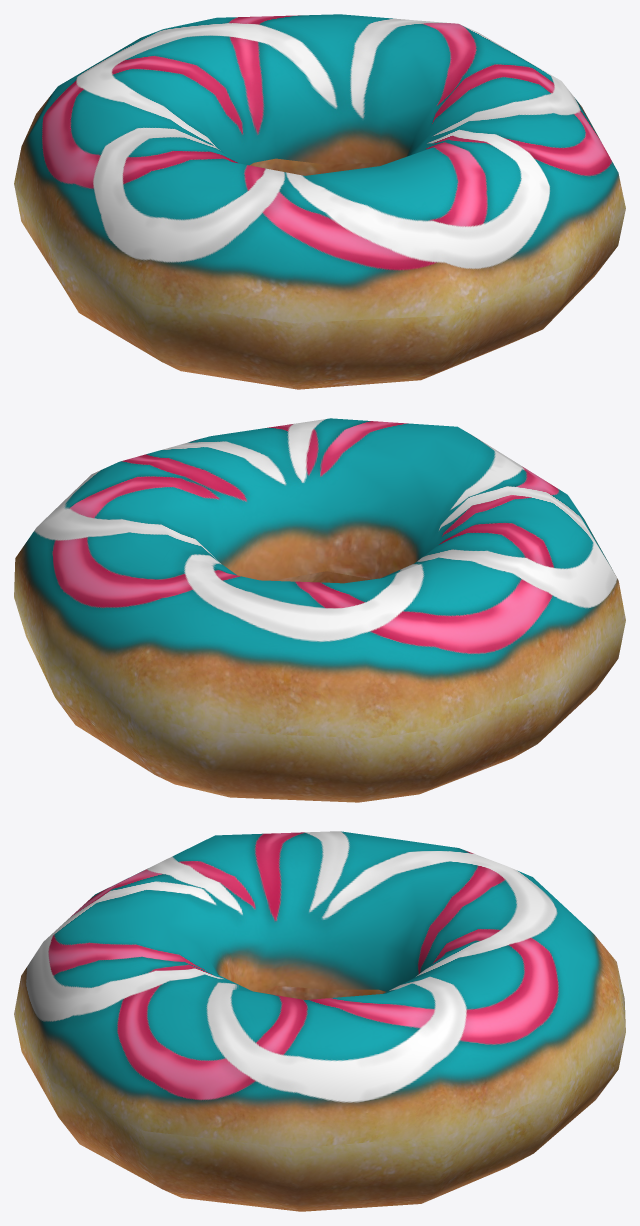
Rendered from input.glb.
3 renders of one model, top to bottom at view 1: azimuth 30°, elevation 25°; view 2: azimuth 150°, elevation 25°; view 3: azimuth 270°, elevation 25°, orthographic.
Visible parts, largest first — view 1: donut_Blue; view 2: donut_Blue; view 3: donut_Blue.
Boxes of the visible parts, left/top/right/bottom form: donut_Blue: left=14, top=14, right=625, bottom=389; donut_Blue: left=14, top=418, right=625, bottom=802; donut_Blue: left=14, top=831, right=625, bottom=1211.
Size of the model in its own units: 2 by 0.7441 by 2.08.
Materials: 1 (1 with a texture image).
